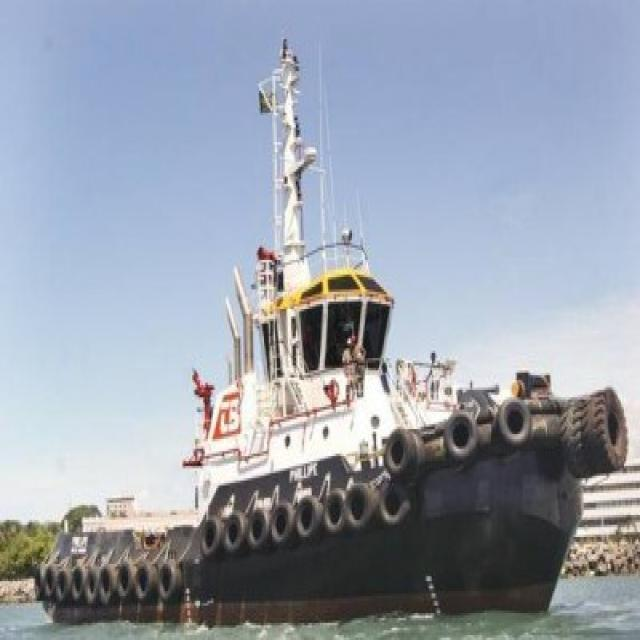Tug: (36, 40, 628, 624)
